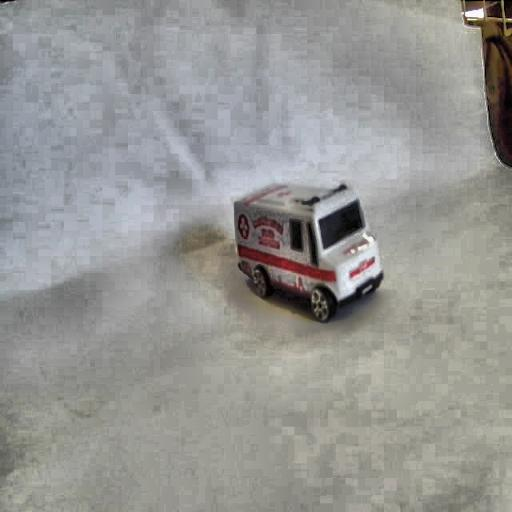ambulance: (233, 181, 383, 322)
